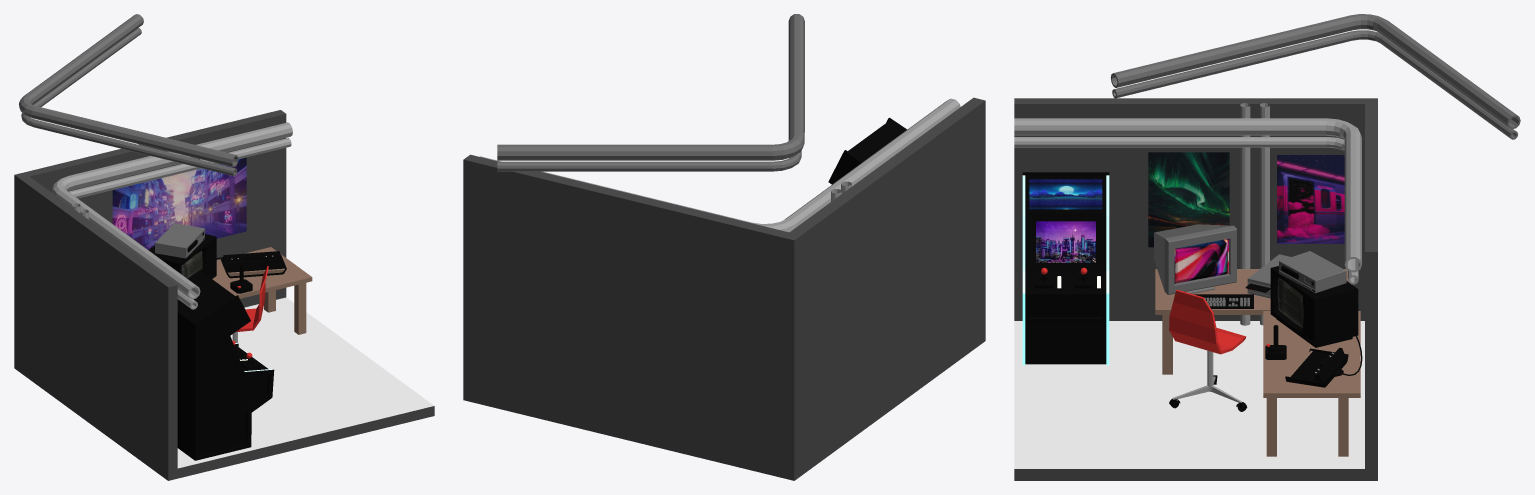
Rendered from room3.gltf.
The picture shows the model from 3 angles, left to right: view 1: azimuth 30°, elevation 25°; view 2: azimuth 150°, elevation 25°; view 3: azimuth 270°, elevation 25°; orthographic projection. The views are drawn at different scales.
Parts seen in each view (by area): view 1: Room, Jatekgep, 80s-Retro-Sci-Fi-FPoster-and-lyer-Templates-for-Adobe-Photos, Plane.011, pipestop, Table, VHS, Labak, Plane.001, Plane.010, Plane, Plane.003 (+1 smaller); view 2: Room, Plane.011, pipestop, Jatekgep; view 3: Room, Jatekgep, pipestop, Plane.011, space-sluts-vintage-sci-fi-comic-book-cover-long-shot, robotlegion, Monitor, Table, Arcade game machine, Plane, TV, Table.002 (+8 smaller).
Boxes of the visible parts, x1=… form: Room: x1=14, y1=110, x2=434, y2=480; Jatekgep: x1=177, y1=269, x2=274, y2=460; 80s-Retro-Sci-Fi-FPoster-and-lyer-Templates-for-Adobe-Photos: x1=112, y1=157, x2=246, y2=249; Plane.011: x1=19, y1=14, x2=238, y2=176; pipestop: x1=52, y1=122, x2=292, y2=309; Table: x1=212, y1=247, x2=312, y2=298; VHS: x1=155, y1=223, x2=204, y2=258; Labak: x1=264, y1=283, x2=306, y2=334; Plane.001: x1=220, y1=251, x2=286, y2=278; Plane.010: x1=179, y1=243, x2=208, y2=278; Plane: x1=236, y1=266, x2=268, y2=331; Plane.003: x1=225, y1=261, x2=284, y2=273; Room: x1=463, y1=97, x2=985, y2=480; Plane.011: x1=497, y1=14, x2=804, y2=171; pipestop: x1=479, y1=98, x2=960, y2=232; Jatekgep: x1=828, y1=117, x2=906, y2=184; Room: x1=1014, y1=98, x2=1377, y2=480; Jatekgep: x1=1022, y1=172, x2=1109, y2=365; pipestop: x1=1014, y1=118, x2=1361, y2=284; Plane.011: x1=1110, y1=14, x2=1520, y2=139; space-sluts-vintage-sci-fi-comic-book-cover-long-shot: x1=1148, y1=152, x2=1229, y2=247; robotlegion: x1=1277, y1=155, x2=1344, y2=243; Monitor: x1=1154, y1=224, x2=1236, y2=294; Table: x1=1263, y1=311, x2=1360, y2=397; Arcade game machine: x1=1240, y1=103, x2=1269, y2=325; Plane: x1=1169, y1=289, x2=1246, y2=354; TV: x1=1271, y1=266, x2=1358, y2=347; Table.002: x1=1155, y1=269, x2=1348, y2=314.
Size of what is drawn, in the model's own units: 8.3 by 7.97 by 11.56.
16 materials, 7 textured.
